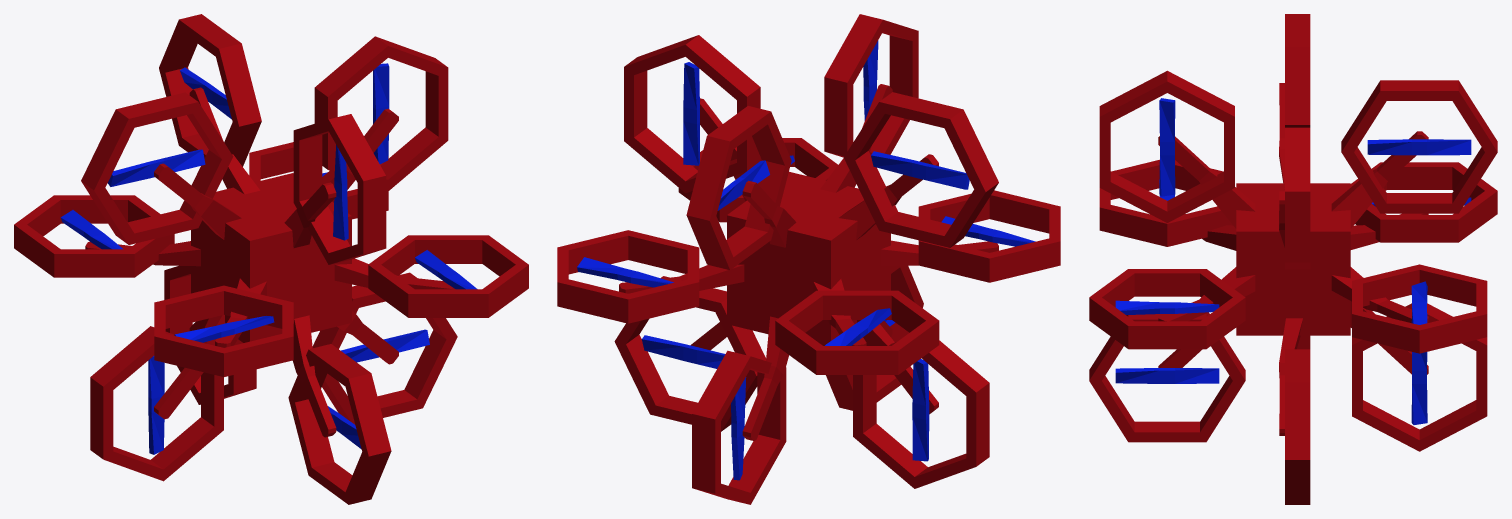
The model's file is dodecacopter.glb.
The picture shows the model from 3 angles, left to right: view 1: azimuth 30°, elevation 25°; view 2: azimuth 150°, elevation 25°; view 3: azimuth 270°, elevation 25°; orthographic projection. The views are drawn at different scales.
Visible parts, largest first — view 1: core, arm.004, arm.010, arm, arm.005, arm.001, arm.011, arm.009, arm.002, arm.006, arm.008, arm.007 (+10 smaller); view 2: core, arm.010, arm.006, arm.003, arm.007, arm.002, arm.001, arm.011, arm.005, arm.009, arm.008, arm.004 (+11 smaller); view 3: core, arm, arm.006, arm.003, arm.005, arm.002, arm.004, arm.001, arm.007, arm.008, arm.009, arm.010 (+6 smaller).
Boxes of the visible parts, x1,y1,x2,y2 form: core: [191, 173, 351, 342]; arm.004: [288, 315, 391, 504]; arm.010: [81, 92, 241, 244]; arm: [334, 235, 528, 317]; arm.005: [284, 114, 386, 264]; arm.001: [154, 278, 293, 376]; arm.011: [90, 315, 225, 481]; arm.009: [314, 36, 448, 202]; arm.002: [14, 195, 200, 277]; arm.006: [159, 14, 261, 194]; arm.008: [312, 272, 457, 424]; arm.007: [164, 265, 256, 404]; core: [727, 171, 890, 345]; arm.010: [839, 92, 998, 247]; arm.006: [686, 106, 796, 269]; arm.003: [557, 230, 744, 323]; arm.007: [692, 316, 788, 504]; arm.002: [775, 279, 939, 374]; arm.001: [881, 190, 1060, 282]; arm.011: [853, 320, 989, 488]; arm.005: [820, 14, 918, 192]; arm.009: [624, 35, 760, 201]; arm.008: [614, 276, 765, 431]; arm.004: [826, 265, 923, 410]; core: [1236, 183, 1350, 335]; arm: [1089, 267, 1255, 349]; arm.006: [1331, 80, 1497, 228]; arm.003: [1331, 264, 1487, 353]; arm.005: [1099, 70, 1255, 228]; arm.002: [1350, 162, 1497, 249]; arm.004: [1089, 312, 1245, 442]; arm.001: [1099, 159, 1236, 250]; arm.007: [1350, 301, 1487, 451]; arm.008: [1279, 318, 1310, 504]; arm.009: [1279, 127, 1310, 269]; arm.010: [1279, 14, 1310, 188].
Size of the model in its own units: 7.13 by 7.13 by 7.13.
